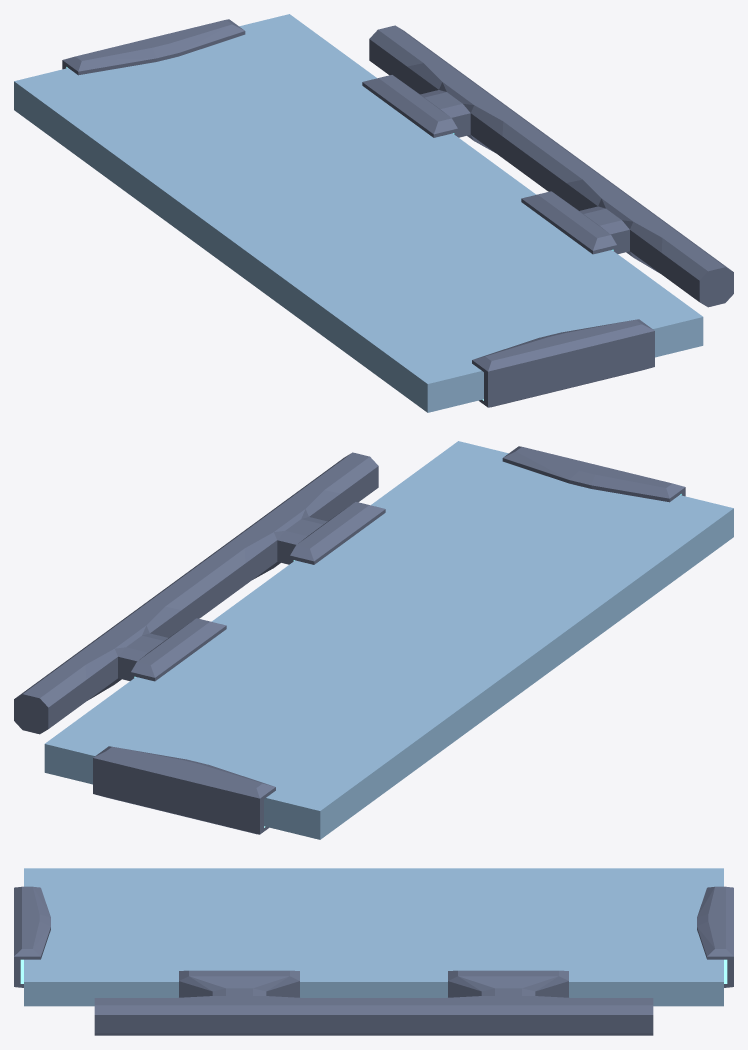
File: MiniScreenLift.glb
The picture shows the model from 3 angles, top to bottom: view 1: azimuth 30°, elevation 25°; view 2: azimuth 150°, elevation 25°; view 3: azimuth 270°, elevation 25°; orthographic projection. The views are drawn at different scales.
Visible parts, largest first — view 1: MiniGlass.001, MiniGlassBottom, MiniGlassBorder.002, MiniGlassBorder.001; view 2: MiniGlass.001, MiniGlassBottom, MiniGlassBorder.001, MiniGlassBorder.002; view 3: MiniGlass.001, MiniGlassBottom, MiniGlassBorder.001, MiniGlassBorder.002.
Part boxes in pixels (x1,y1,x2,y2): MiniGlass.001: (14,14,703,412); MiniGlassBottom: (362,25,733,307); MiniGlassBorder.002: (472,319,654,407); MiniGlassBorder.001: (62,19,245,75); MiniGlass.001: (44,441,733,839); MiniGlassBottom: (14,452,385,734); MiniGlassBorder.001: (93,746,275,834); MiniGlassBorder.002: (502,446,685,502); MiniGlass.001: (24,868,723,1006); MiniGlassBottom: (94,970,653,1035); MiniGlassBorder.001: (697,886,733,987); MiniGlassBorder.002: (14,886,50,987).
Size of the model in its own units: 0.505 by 0.066 by 1.07.
